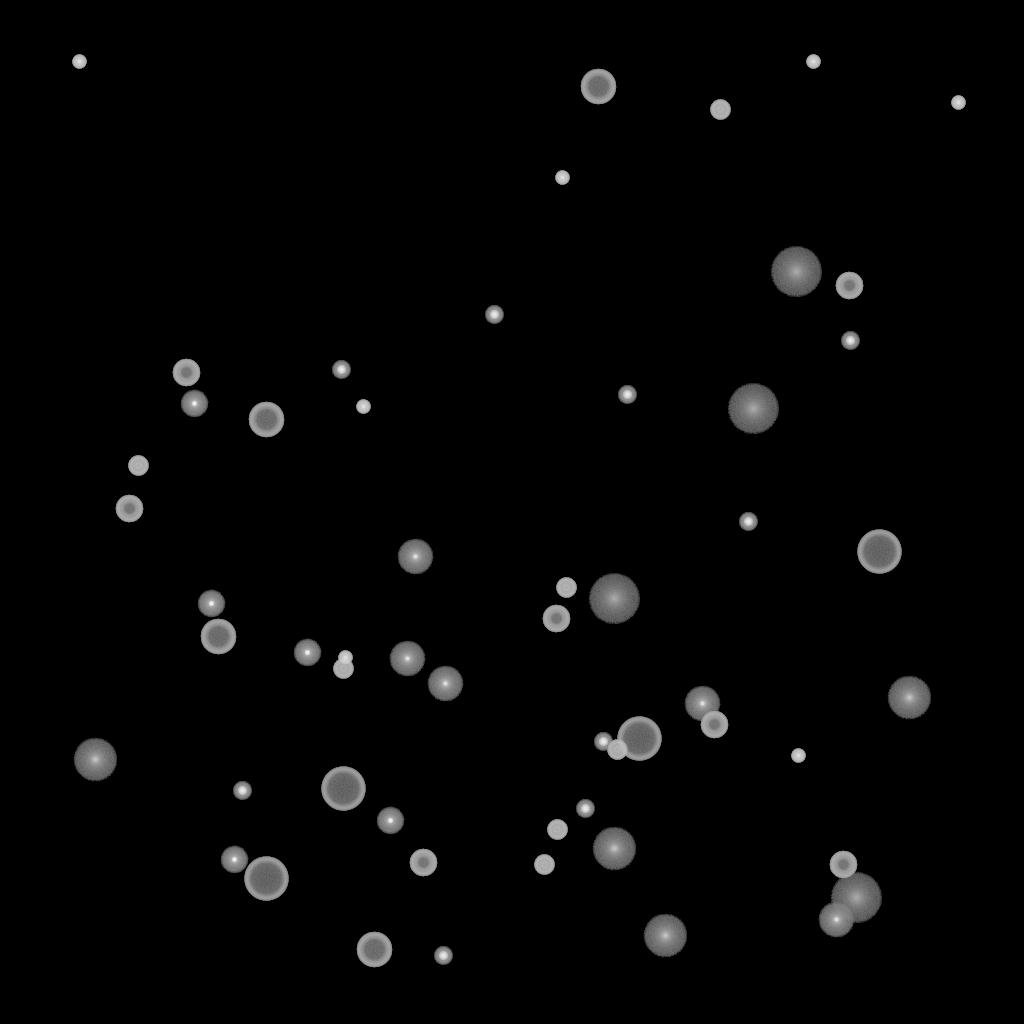depth:-10: (220, 846, 248, 874), (293, 639, 321, 667), (180, 390, 208, 418), (376, 807, 404, 835), (197, 590, 225, 618)
depth:-20: (434, 947, 452, 965), (739, 513, 757, 531), (576, 800, 594, 818), (841, 332, 859, 350), (485, 306, 503, 324), (594, 733, 612, 751), (332, 361, 350, 379), (233, 782, 251, 800), (618, 386, 636, 404)
depth:-30: (791, 749, 805, 763), (356, 400, 370, 414), (338, 651, 352, 665), (951, 96, 965, 110), (555, 171, 569, 185), (806, 55, 820, 69), (72, 55, 86, 69)
depth:-40: (556, 578, 576, 598), (607, 740, 627, 760), (547, 820, 567, 840), (333, 659, 353, 679), (128, 456, 148, 476), (710, 100, 730, 120), (534, 855, 554, 875)
depth:-50: (172, 359, 200, 387), (835, 272, 863, 300), (115, 495, 143, 523), (409, 849, 437, 877), (700, 711, 728, 739), (829, 851, 857, 879), (542, 605, 570, 633)
depth:-60: (248, 402, 284, 438), (200, 619, 236, 655), (580, 69, 616, 105), (356, 932, 392, 968)
depth:-70: (321, 767, 365, 811), (617, 717, 661, 761), (244, 857, 288, 901), (857, 530, 901, 574)
depth:0: (397, 539, 433, 575), (818, 902, 854, 938), (684, 686, 720, 722), (389, 641, 425, 677), (427, 666, 463, 702)
depth:10: (592, 827, 636, 871), (643, 914, 687, 958), (887, 676, 931, 720), (73, 738, 117, 782)
depth:20: (830, 873, 882, 923), (770, 247, 822, 297), (727, 384, 779, 434), (588, 574, 640, 624)
